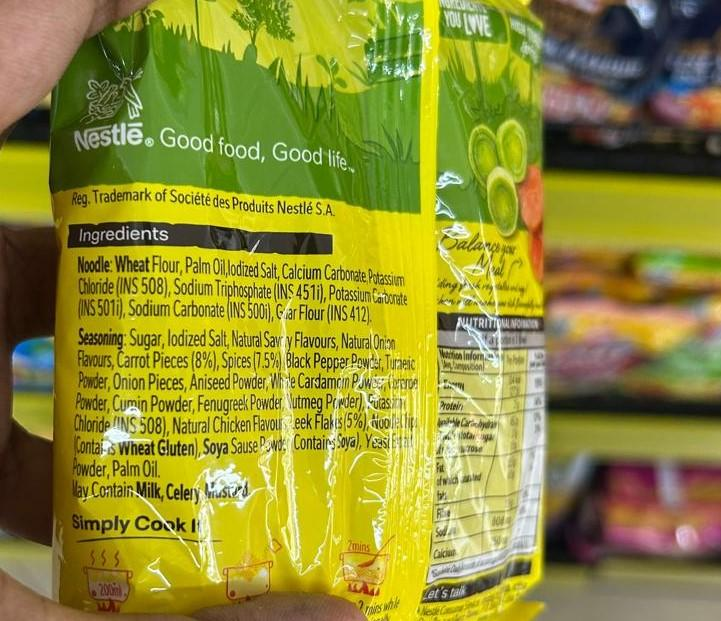ingredients: (51, 208, 432, 526)
